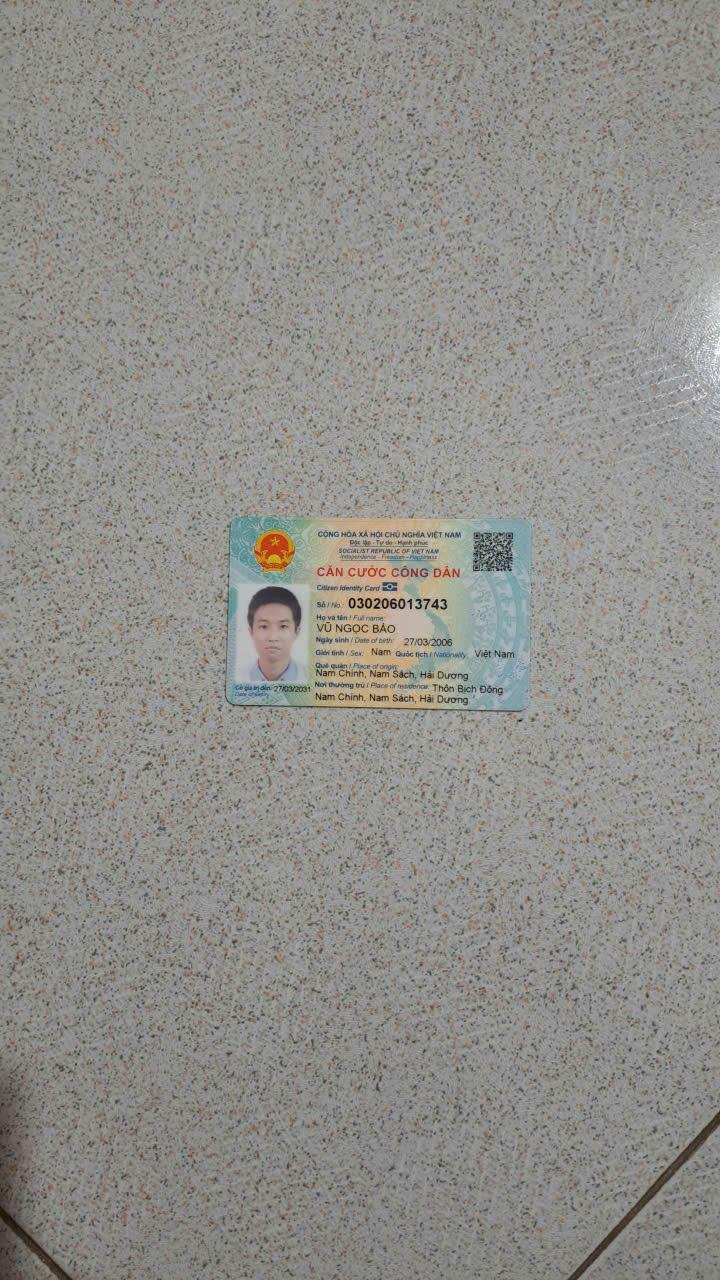cccd: (222, 505, 536, 721)
